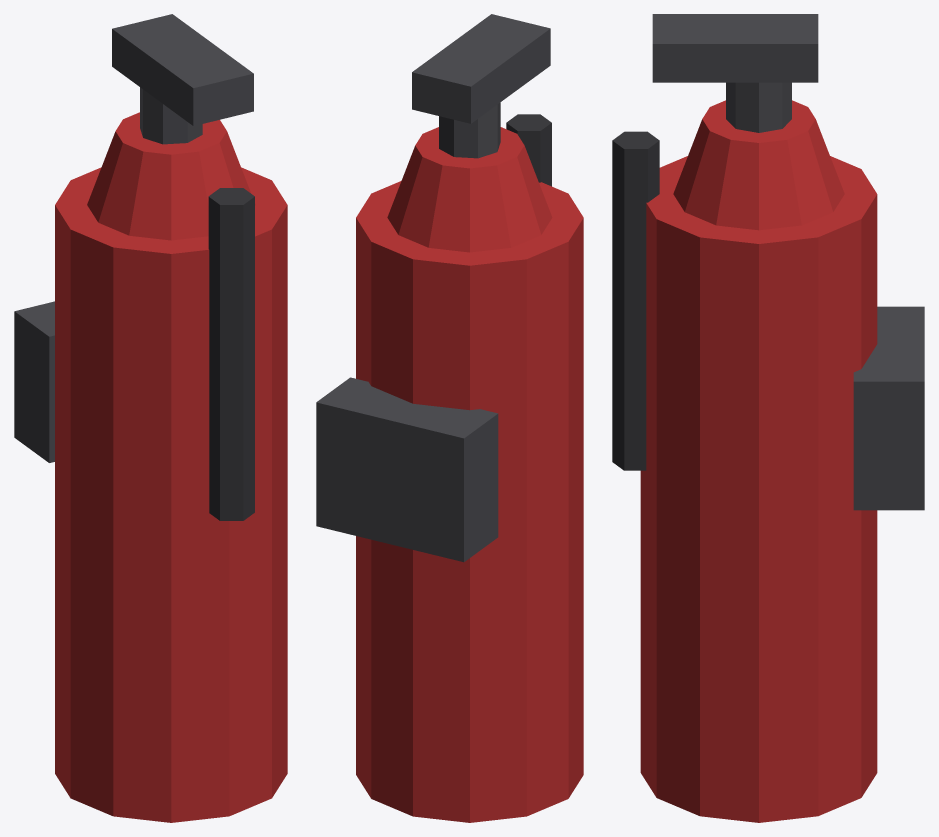
The model's file is fire_extinguisher.glb.
3 renders of one model, left to right at view 1: azimuth 30°, elevation 25°; view 2: azimuth 150°, elevation 25°; view 3: azimuth 270°, elevation 25°, orthographic. The views are drawn at different scales.
Visible parts, largest first — view 1: Fire Extinguisher; view 2: Fire Extinguisher; view 3: Fire Extinguisher.
Boxes of the visible parts, <box> form: Fire Extinguisher: <box>14,14,287,822</box>; Fire Extinguisher: <box>316,14,583,822</box>; Fire Extinguisher: <box>612,14,924,822</box>.
Bounding box in the file's own units: 0.1 × 0.347 × 0.132.
